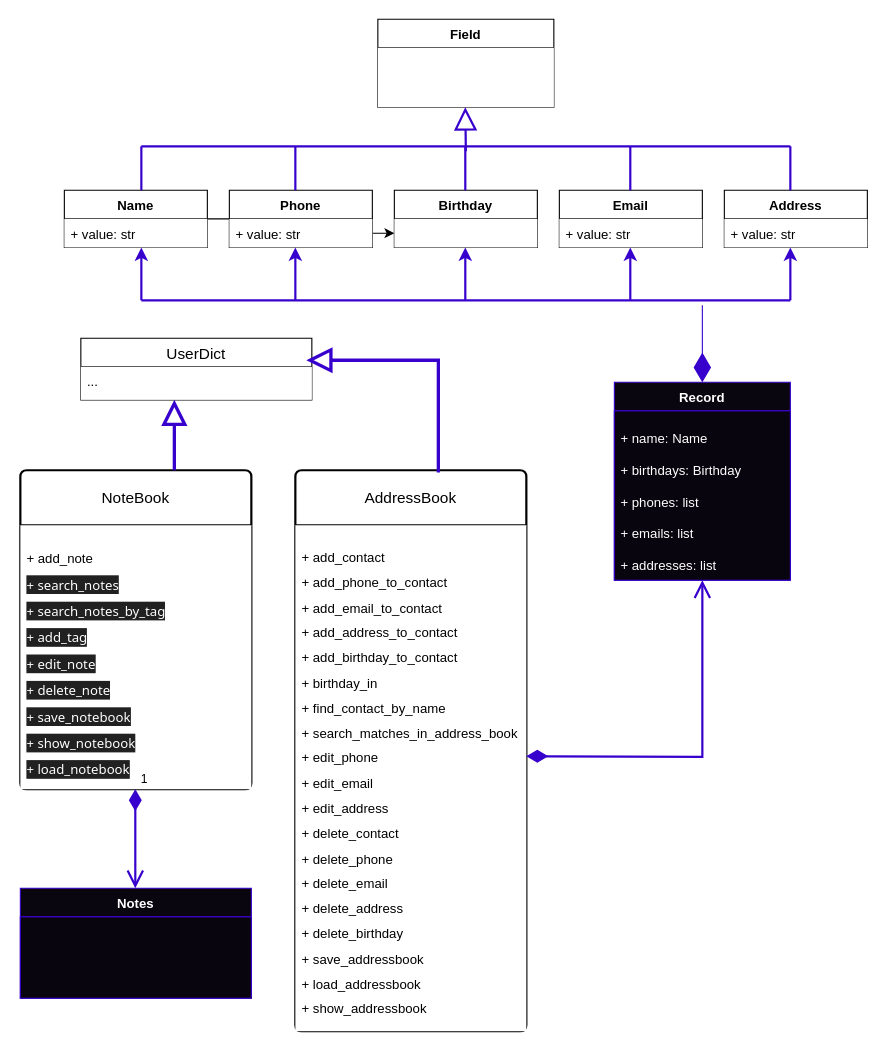
Image size: 887x1055. Some labels were removed from this diagram. The centre of each missing label's shape, as x and y in pixels:
+ note: Note + tags: list: the point at 135,957
+ value: the point at 465,77
+ value: date: the point at 465,232
